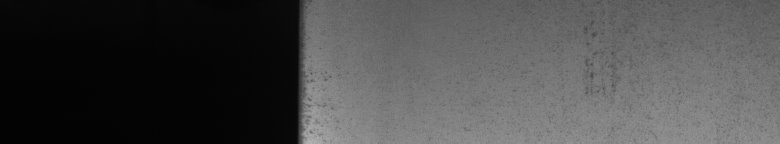ib: (584, 12, 672, 95)
